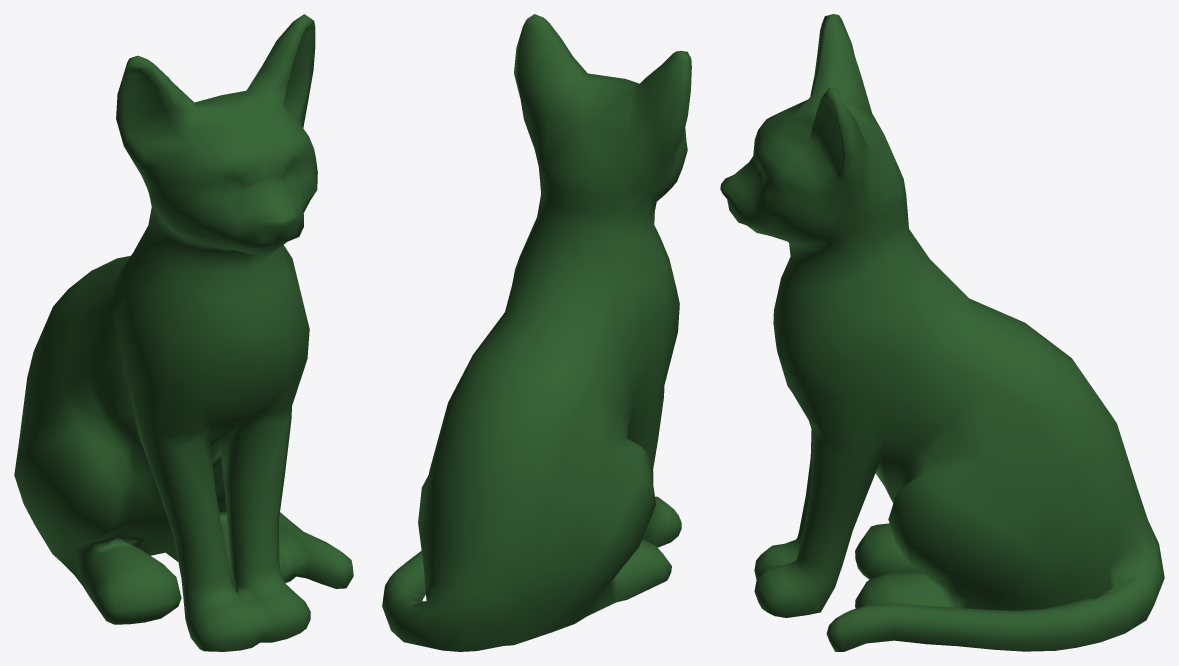
The model's file is cat.fbx.
The picture shows the model from 3 angles, left to right: view 1: azimuth 30°, elevation 25°; view 2: azimuth 150°, elevation 25°; view 3: azimuth 270°, elevation 25°; orthographic projection. The views are drawn at different scales.
Parts seen in each view (by area): view 1: cat_low; view 2: cat_low; view 3: cat_low.
Boxes of the visible parts, x1,y1,x2,y2 form: cat_low: (14, 14, 353, 651); cat_low: (382, 14, 691, 651); cat_low: (720, 14, 1164, 651).
Size of the model in its own units: 524 by 900 by 1218.
